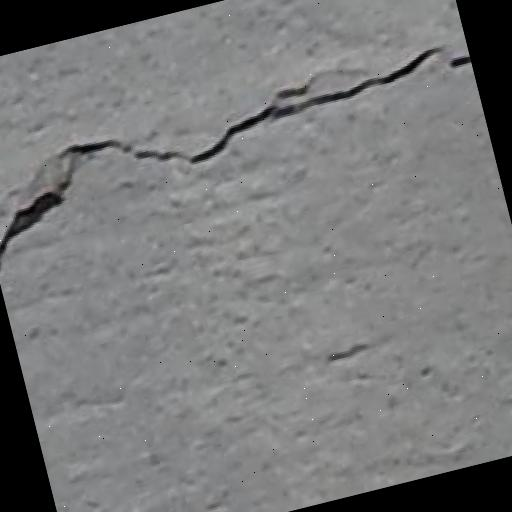spalling: (0, 36, 462, 277)
